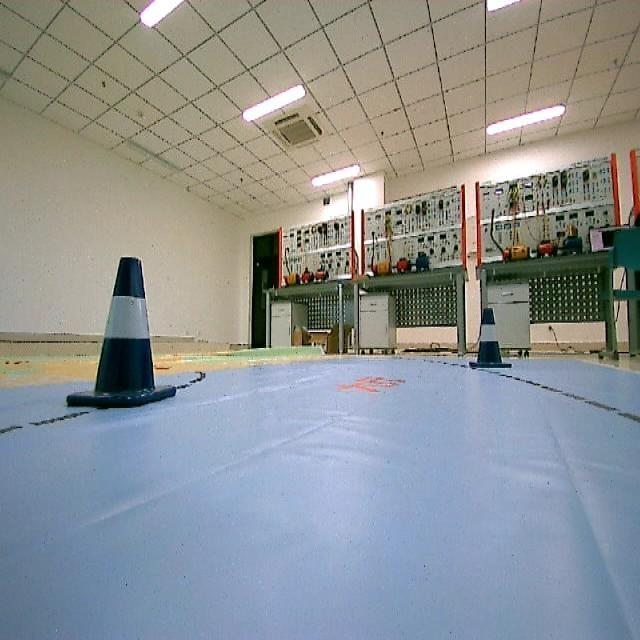obstacle: (55, 250, 181, 412), (470, 304, 508, 374)
